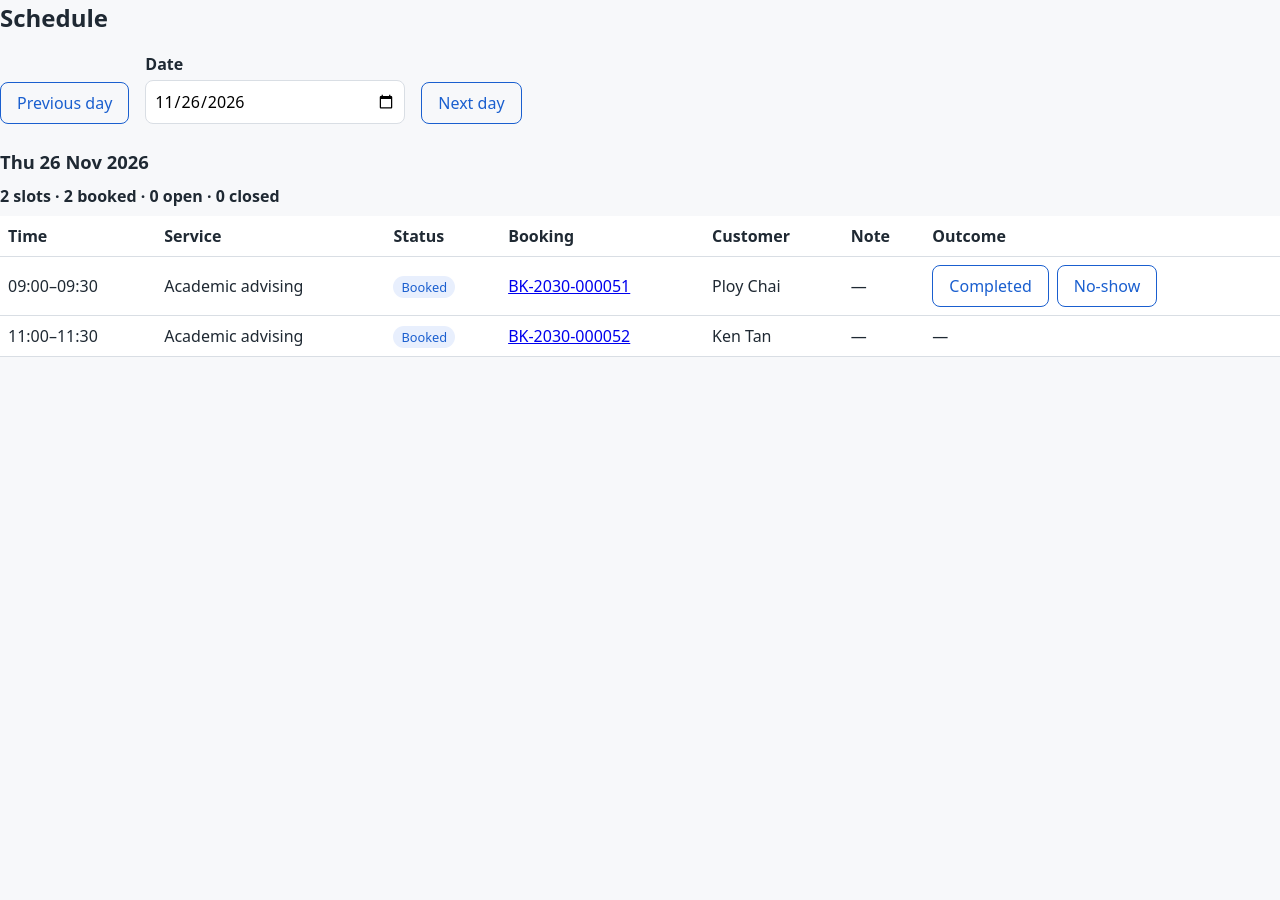
Test: SchedulePage outcomes (F-09) › UI-09: Completed / No-show only where canRecordOutcome; after confirming, the badge replaces the buttons
This screenshot has width=1280, height=900.
Expected: the button with aria-label "Completed BK-2030-000051" is shown, [932,265,1049,307]
Click the button with aria-label "No-show BK-2030-000051": coordinates (1107, 286) [1057,265,1157,307]
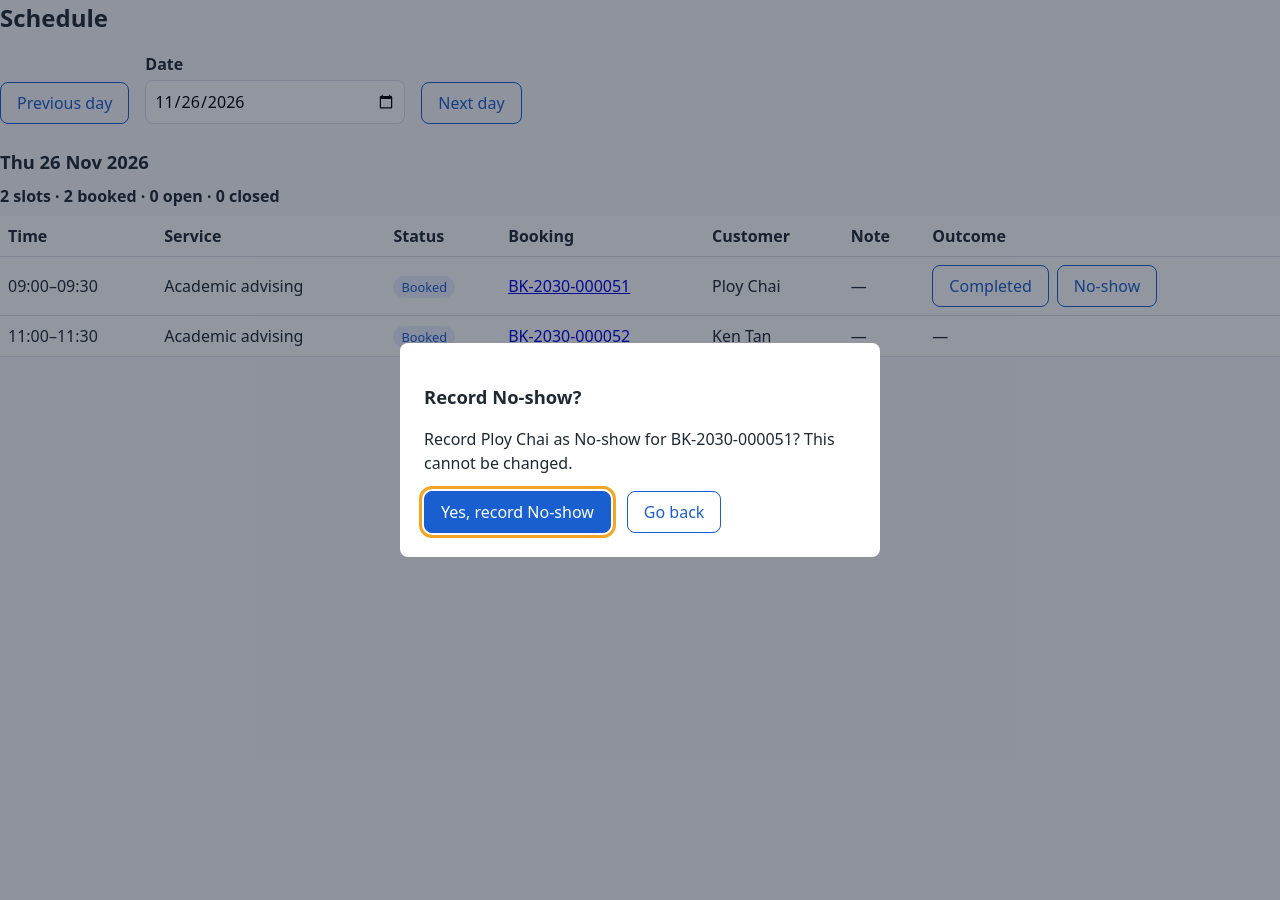
Expected: the dialog "Record No-show?" shows "Record Ploy Chai as No-show for BK-2030-000051? This cannot be changed.", [400,343,880,557]
Click the button "Yes, record No-show": coordinates (517, 512) [424,491,611,533]
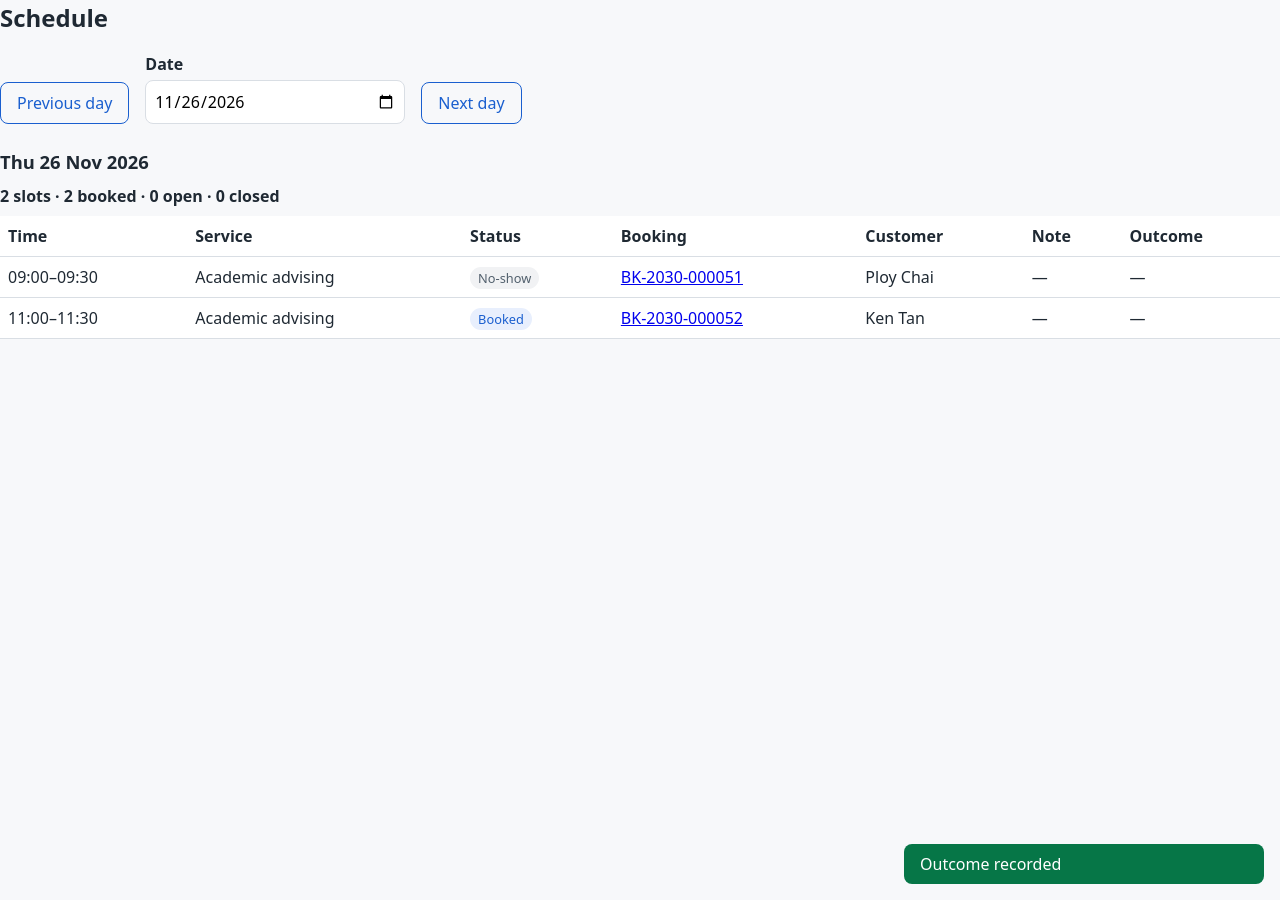
Expected: the text "Outcome recorded" is shown, [904,844,1264,884]
Expected: the text "No-show" is shown, [470,267,539,289]
Expected: no the button "Completed" are shown
